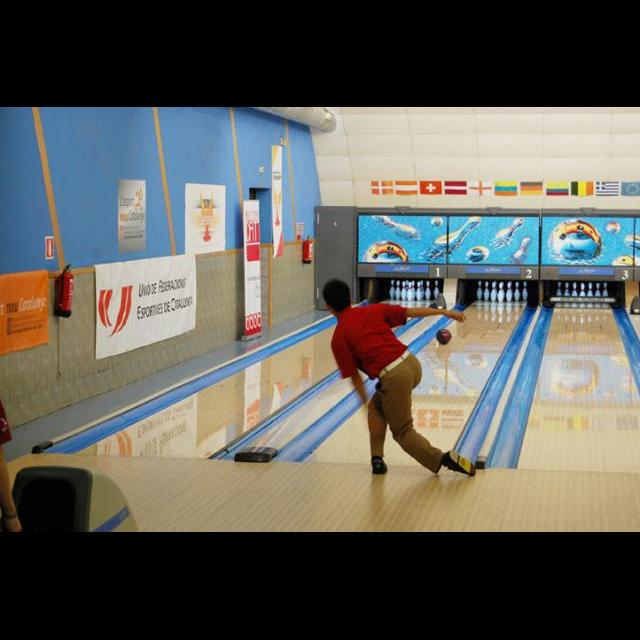NO-Hardhat: (322, 278, 349, 300)
NO-Safety Vest: (337, 306, 407, 374)
Person: (321, 278, 478, 478), (0, 398, 21, 532)
